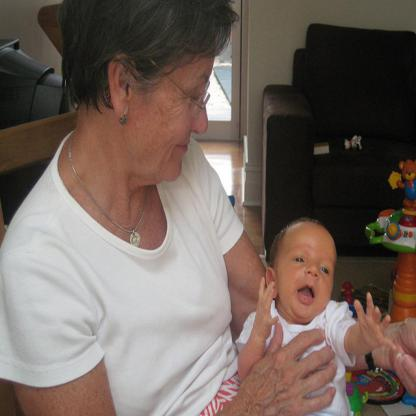face: (137, 24, 219, 182), (278, 227, 335, 319)
